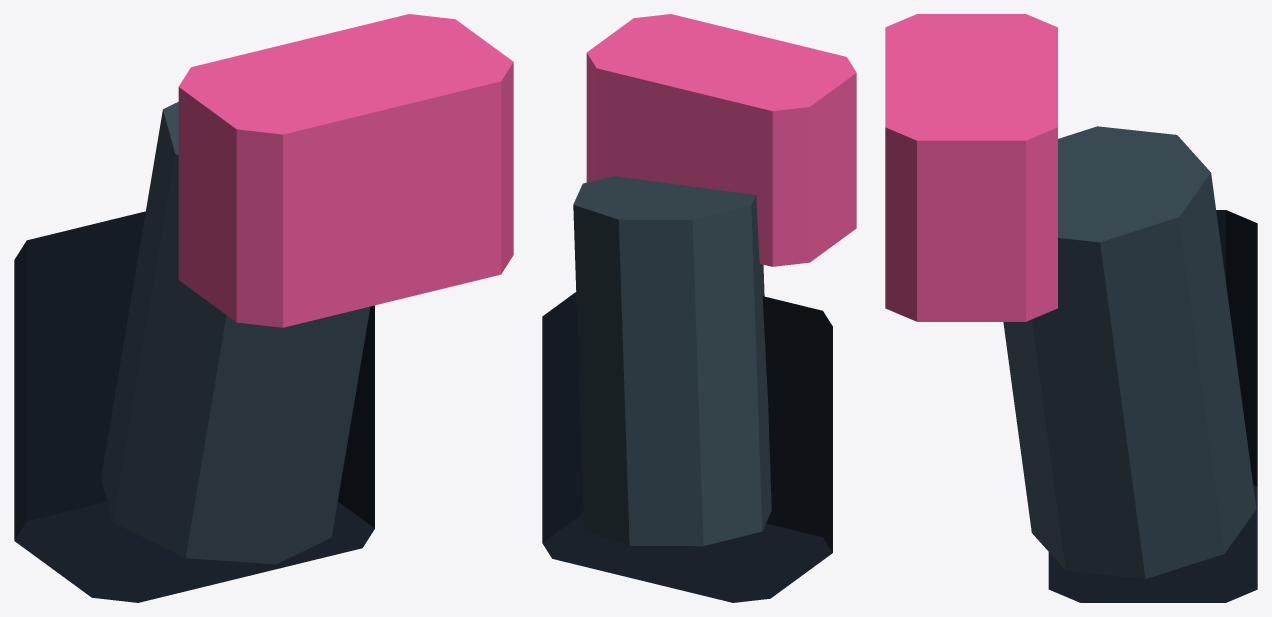
The model's file is enemy_striker_lod_shin_r.obj.
3 views of the same model, side by side, from view 1: azimuth 30°, elevation 25°; view 2: azimuth 150°, elevation 25°; view 3: azimuth 270°, elevation 25° (orthographic). The views are drawn at different scales.
Bounding box in the file's own units: 0.3988 × 0.59 × 0.41.
